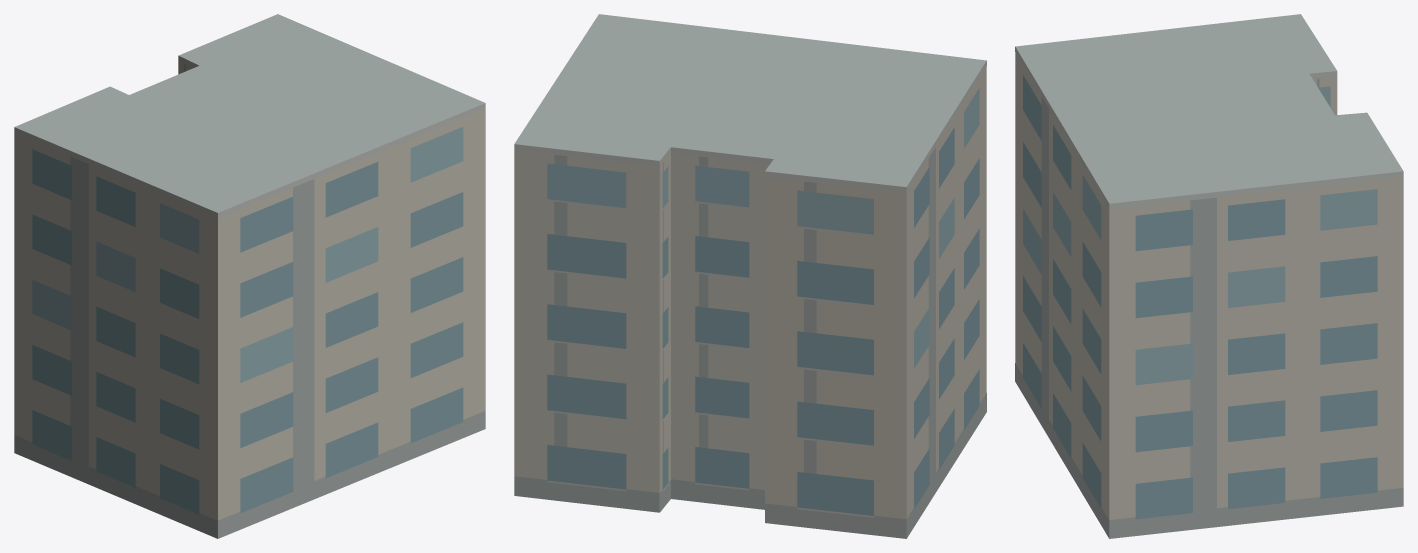
Rendered from survey-upis-32927685.glb.
The picture shows the model from 3 angles, left to right: view 1: azimuth 30°, elevation 25°; view 2: azimuth 150°, elevation 25°; view 3: azimuth 270°, elevation 25°; orthographic projection. The views are drawn at different scales.
Visible parts, largest first — view 1: survey-upis-32927685.tmp; view 2: survey-upis-32927685.tmp; view 3: survey-upis-32927685.tmp.
Part boxes in pixels (<box>): survey-upis-32927685.tmp: <box>14,14,485,538</box>; survey-upis-32927685.tmp: <box>514,14,986,538</box>; survey-upis-32927685.tmp: <box>1015,14,1403,538</box>.
Bounding box in the file's own units: 17.56 × 14.45 × 15.19.
